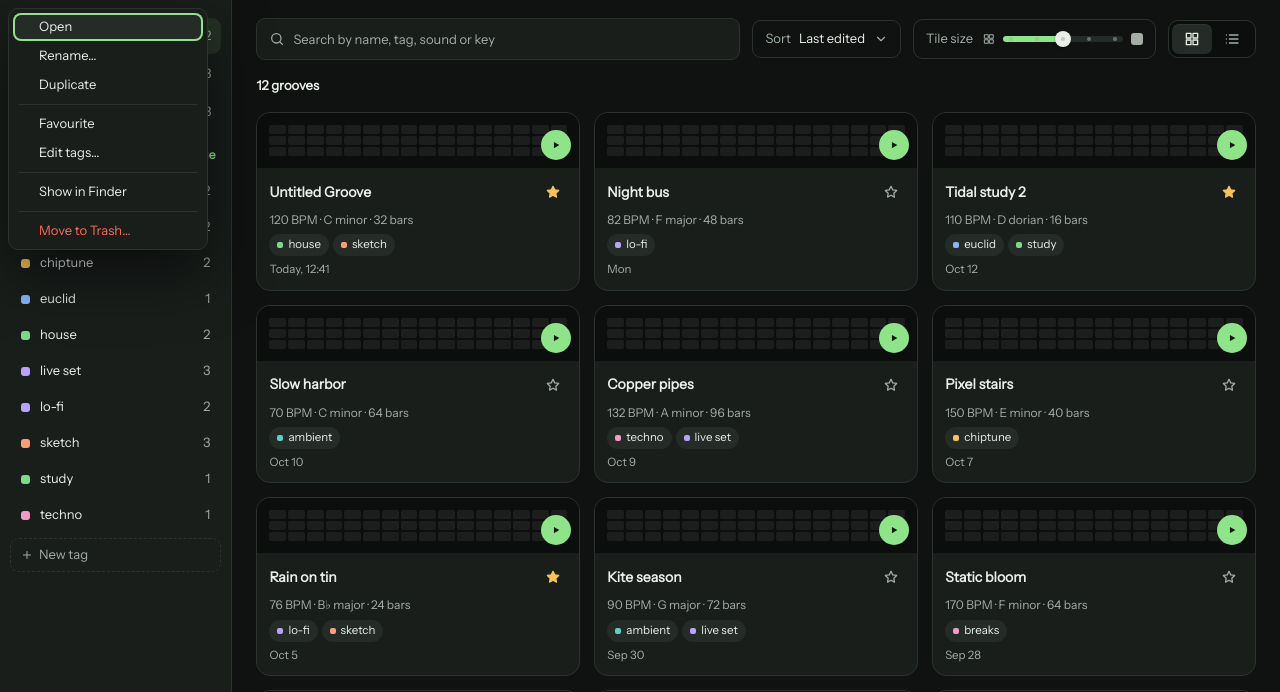
GrooveBrowser › should edit the tags of one groove
The image size is (1280, 692).
Expected: the text "12 grooves" is shown, 256,77 -> 319,95
Click the menu item "Edit tags…": x=108, y=153 13,139 -> 203,167
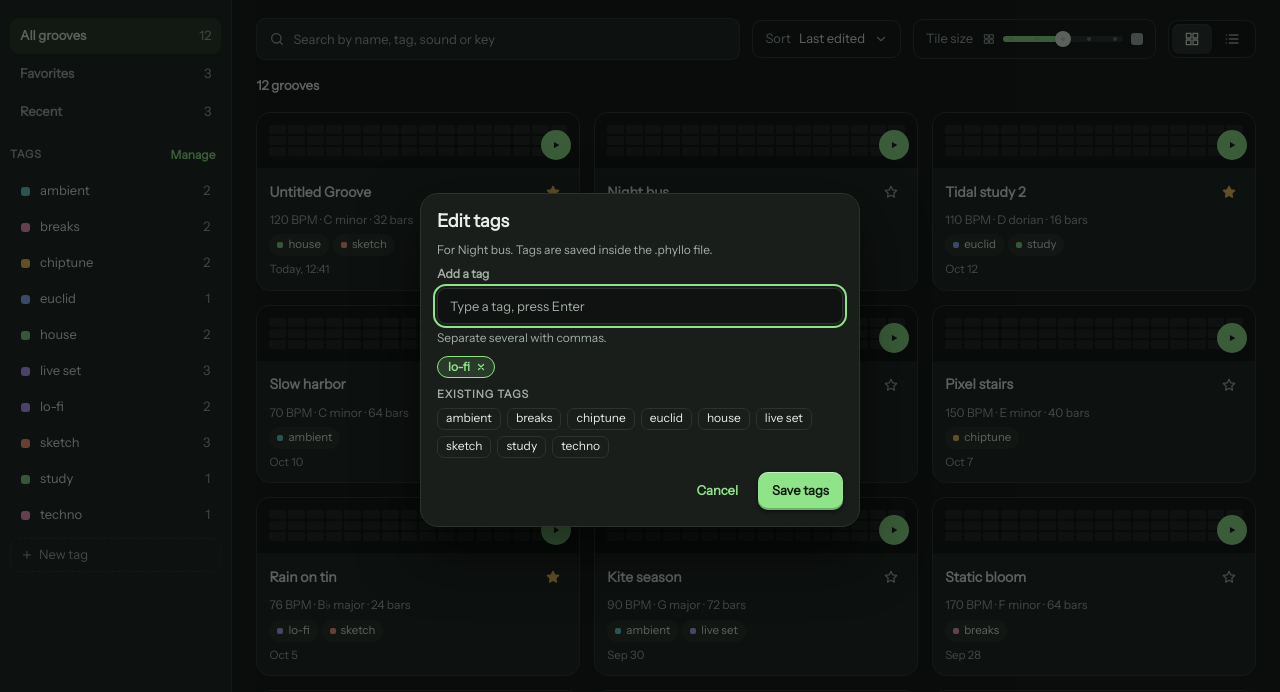
In the field labelled "Add a tag": x=640, y=306 450,289 -> 830,323, type "rainy, late"
Then press Enter
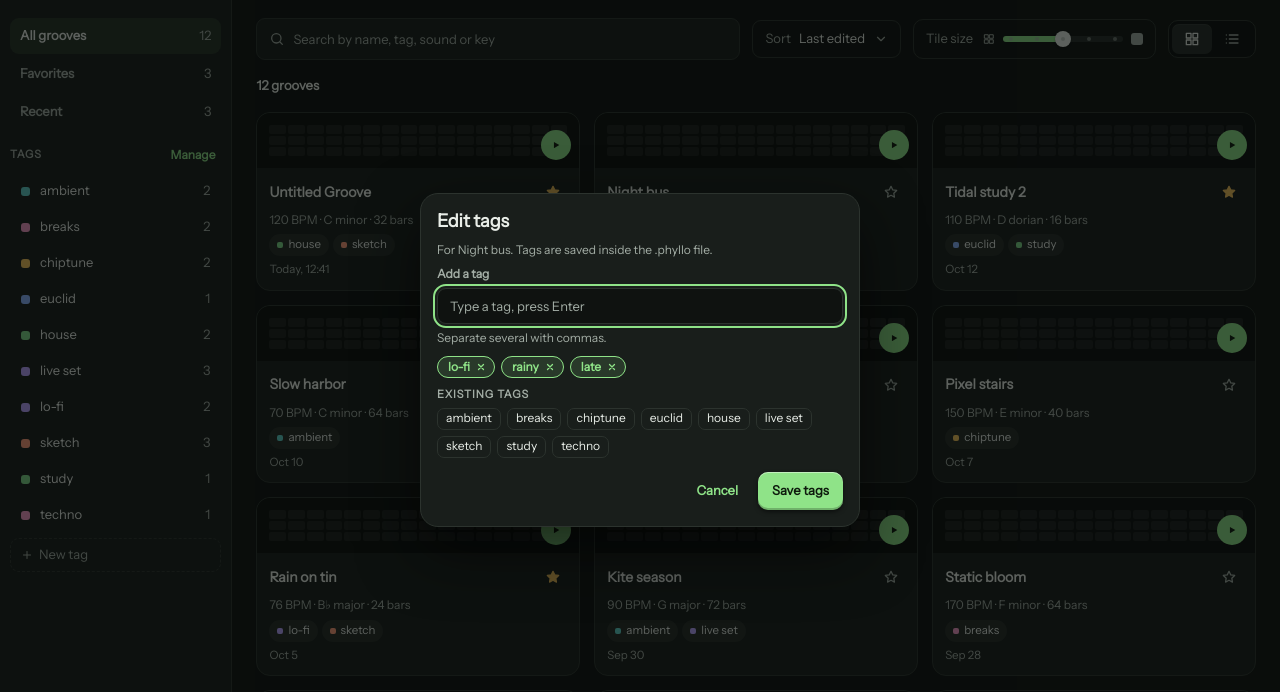
Click the button with aria-label "Remove lo-fi": x=466, y=367 437,356 -> 495,378
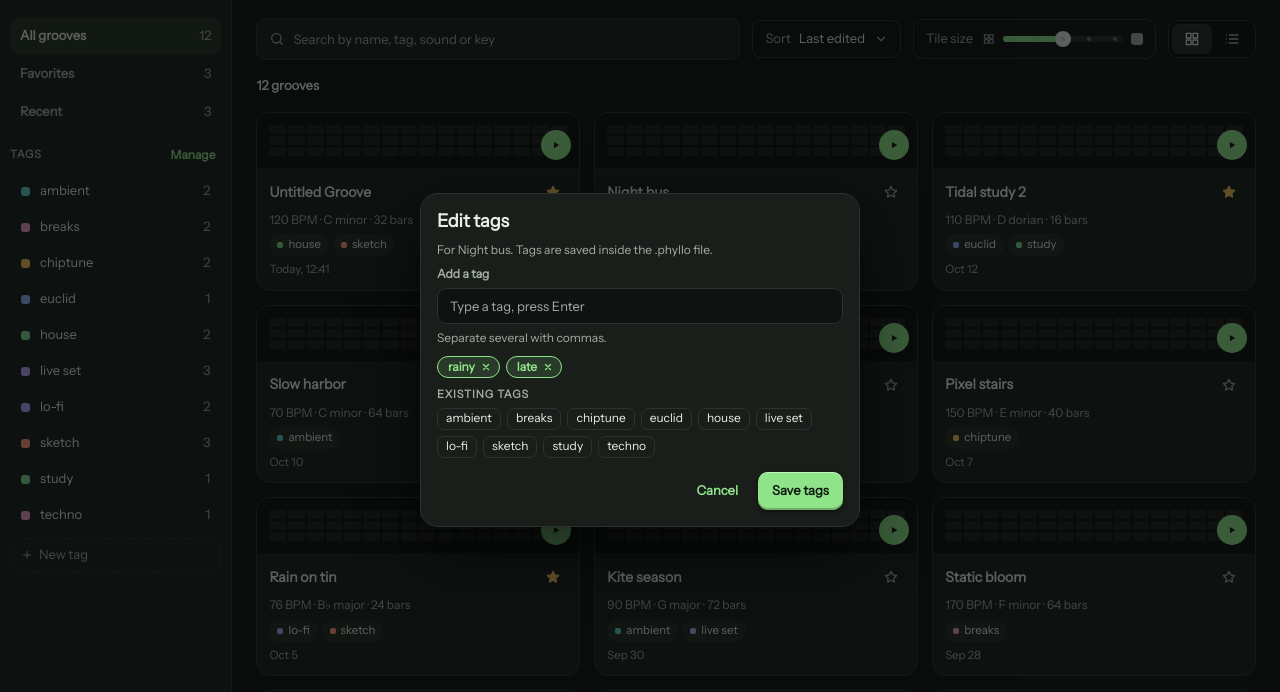
Click the button "Save tags": x=800, y=491 758,472 -> 843,510
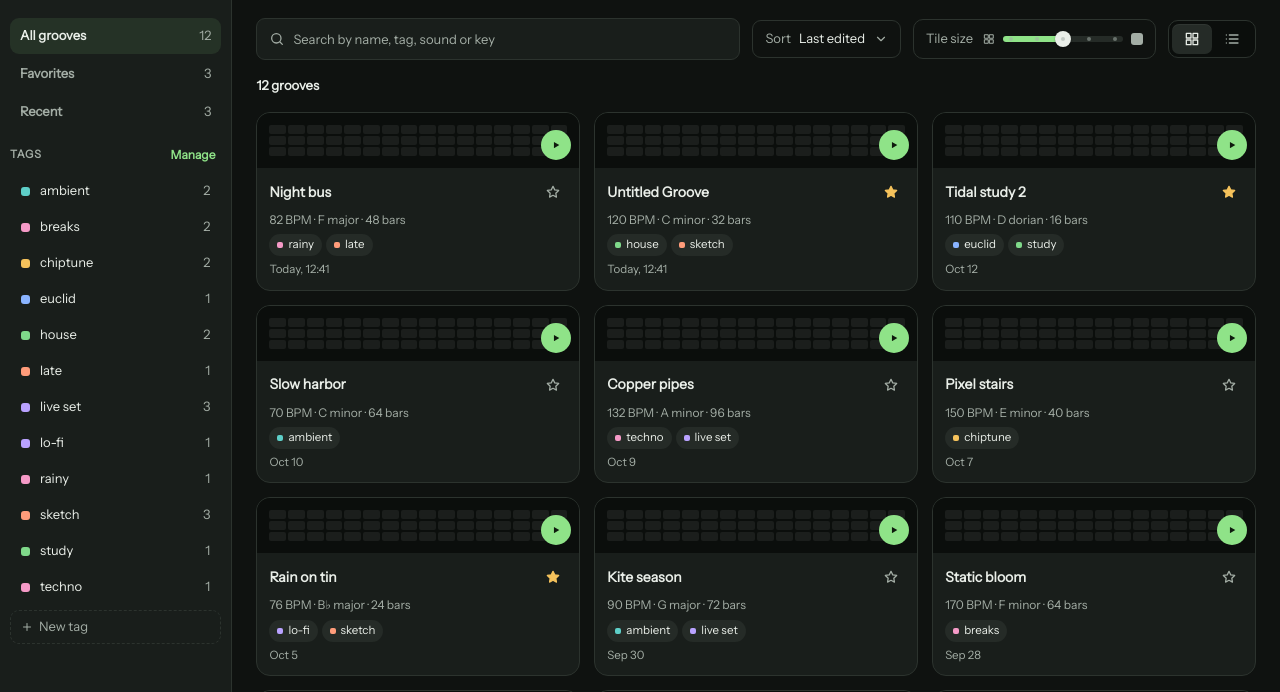
Now the dialog is gone
Now the button named "rainy 1 groove" is shown, box 10,462 -> 221,496
Now the button named "late 1 groove" is shown, box 10,354 -> 221,388
